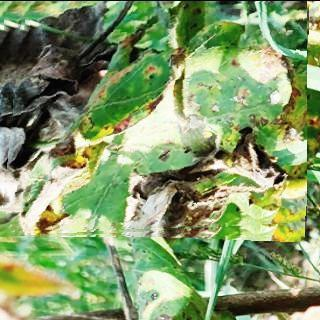blight: (0, 0, 307, 239)
